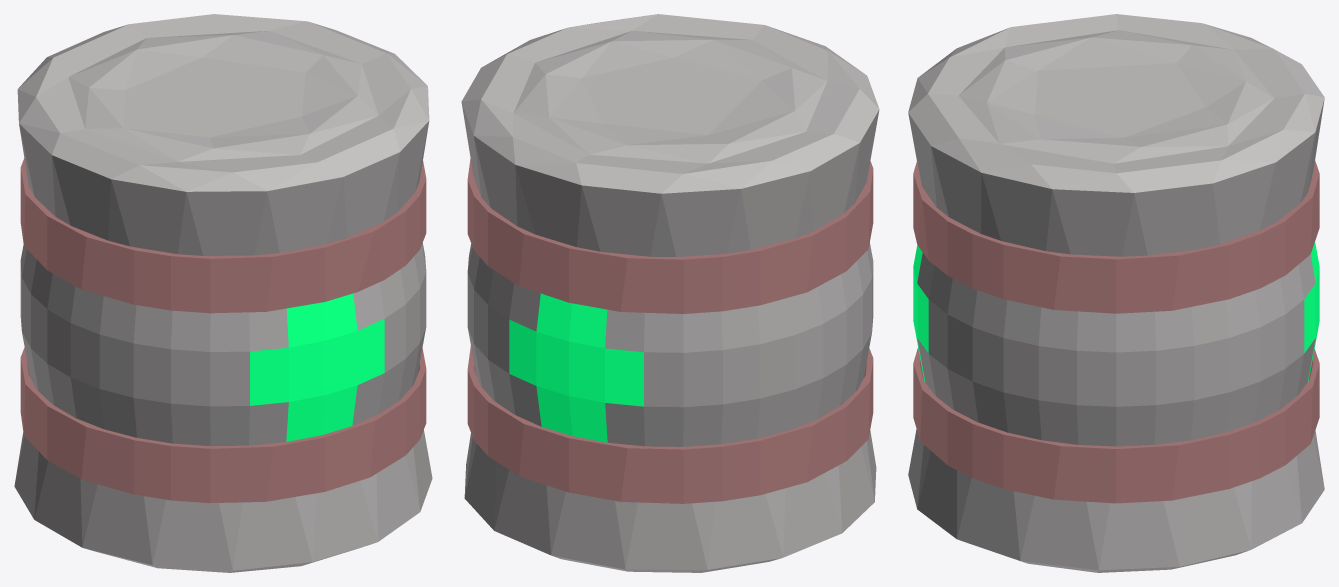
File: bandage.fbx
3 views of the same model, side by side, from view 1: azimuth 30°, elevation 25°; view 2: azimuth 150°, elevation 25°; view 3: azimuth 270°, elevation 25° (orthographic).
Visible parts, largest first — view 1: Cylinder; view 2: Cylinder; view 3: Cylinder.
Boxes of the visible parts, bbox=[...] form: Cylinder: bbox=[14, 14, 432, 572]; Cylinder: bbox=[461, 14, 879, 572]; Cylinder: bbox=[908, 14, 1324, 572].
Bounding box in the file's own units: 200 × 214 × 200.
